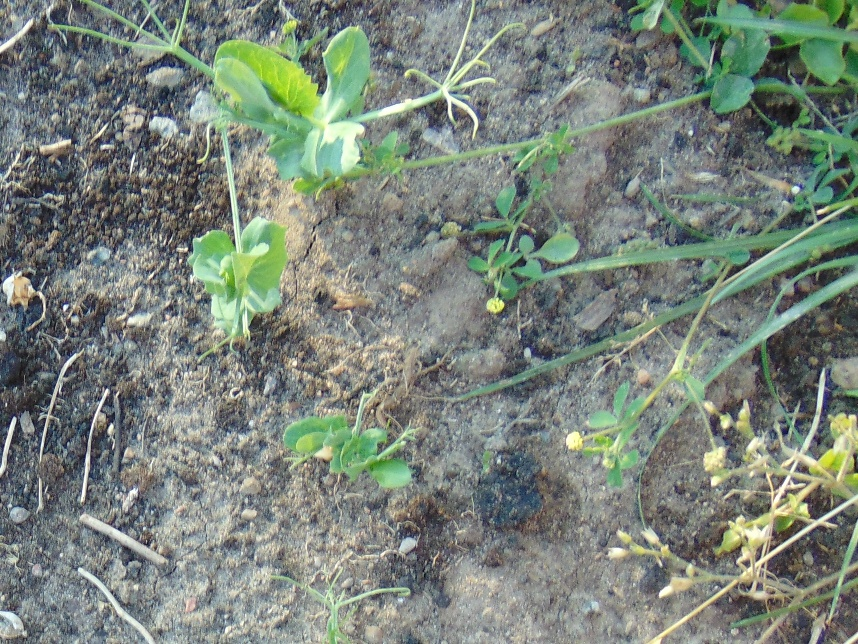crop: (137, 12, 476, 193), (185, 110, 289, 363), (279, 390, 416, 491)
weed: (705, 78, 858, 611), (637, 1, 858, 115), (352, 122, 580, 202), (582, 378, 712, 485), (468, 189, 586, 305)
